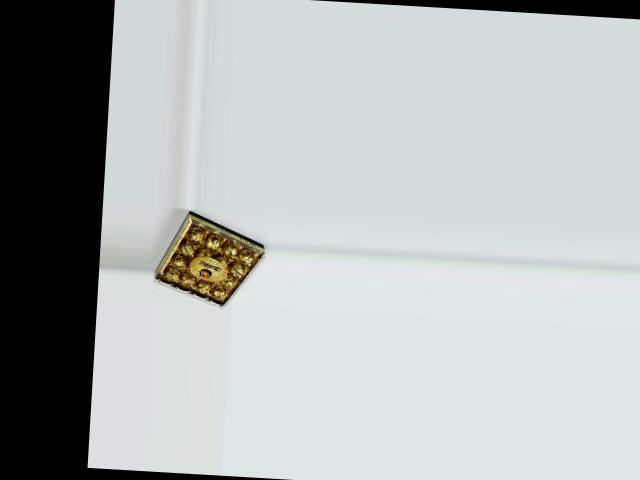chocolate: (151, 206, 268, 311)
